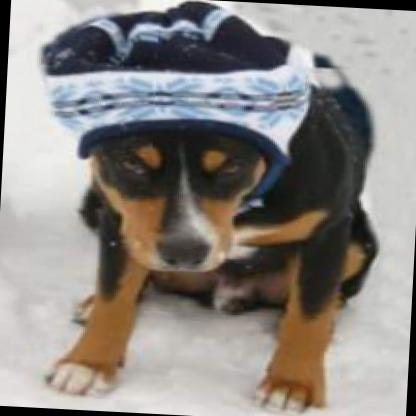EntleBucher: (12, 0, 387, 416)
